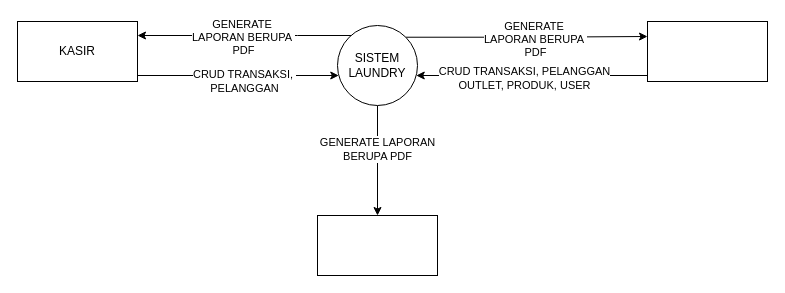
This 785x293 diagram has some shape labels left out. The centre of each missing label's shape, as x and y in pixels:
"ADMIN" goes at point (707, 51).
"OWNER" goes at point (377, 245).
